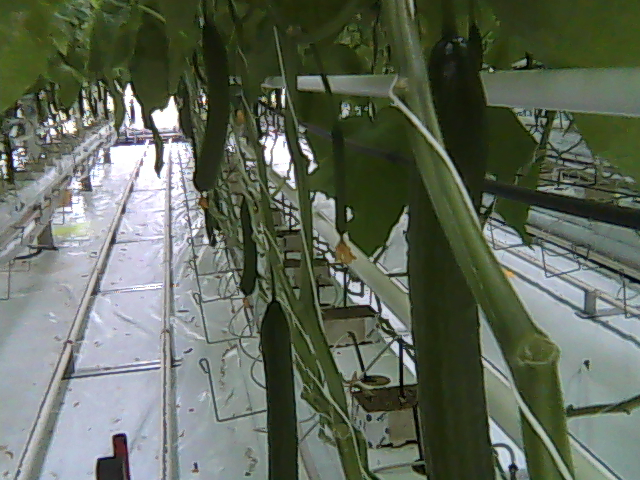concombre: (404, 28, 498, 480), (257, 296, 303, 480)
